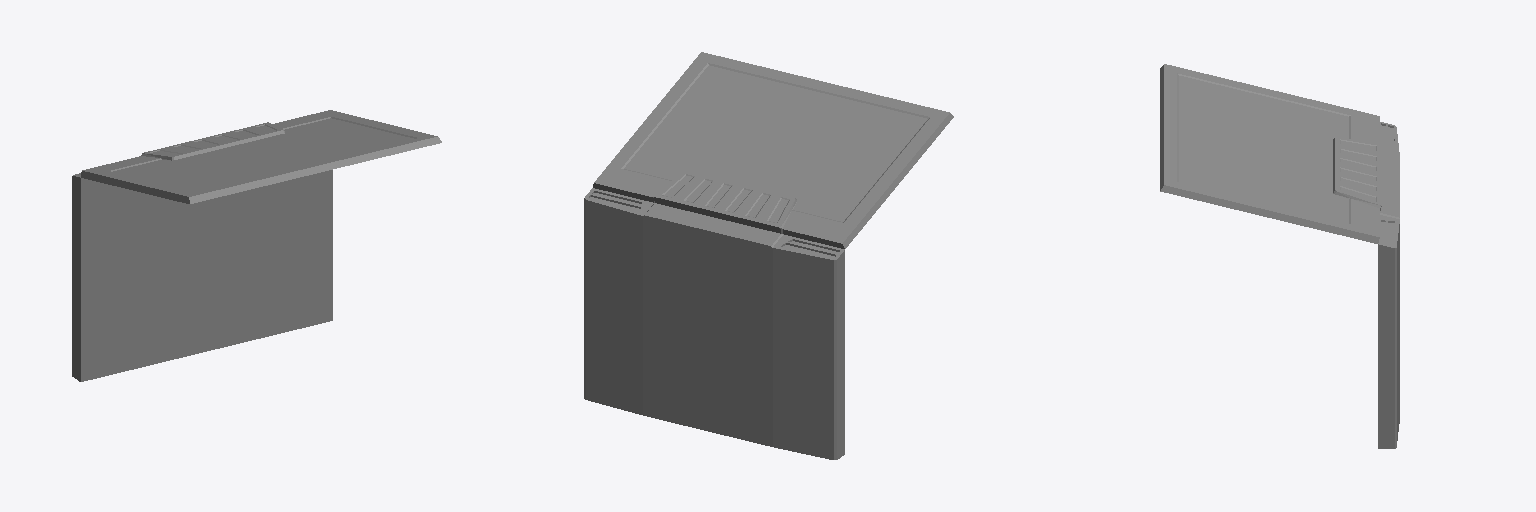
Rendered from LaptopUmbrella.obj.
The picture shows the model from 3 angles: view 1: azimuth 30°, elevation 25°; view 2: azimuth 150°, elevation 25°; view 3: azimuth 270°, elevation 25°; orthographic projection.
Visible parts, largest first — view 1: Item; view 2: Item; view 3: Item.
Part boxes in pixels (left/top/right/bottom): Item: left=72, top=110, right=441, bottom=381; Item: left=584, top=52, right=953, bottom=459; Item: left=1160, top=64, right=1399, bottom=448.
Size of the model in its own units: 1.5 by 1.49 by 1.23.